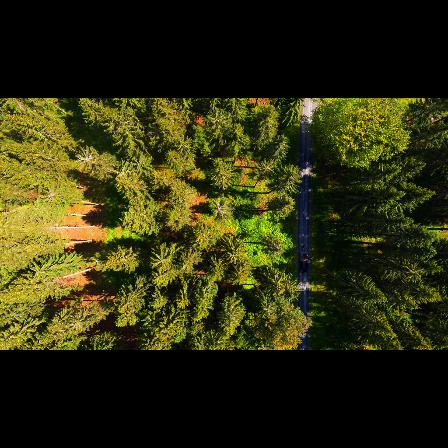Sick: (205, 195, 236, 224), (70, 144, 102, 171), (204, 104, 234, 131), (255, 157, 279, 178)
